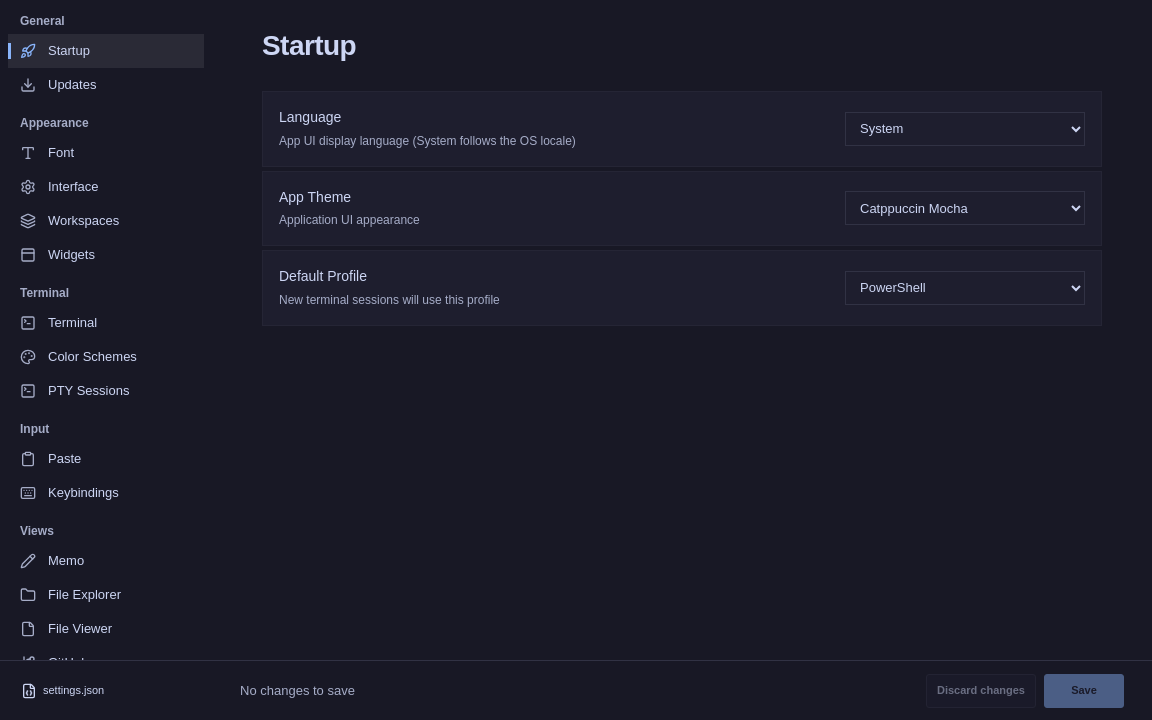
Scenario: SettingsView › requires an explicit terminal profile for each extension viewer
Click the button with test id "nav-fileExplorer": (106, 595) [8,578,204,612]
(page scrolled)
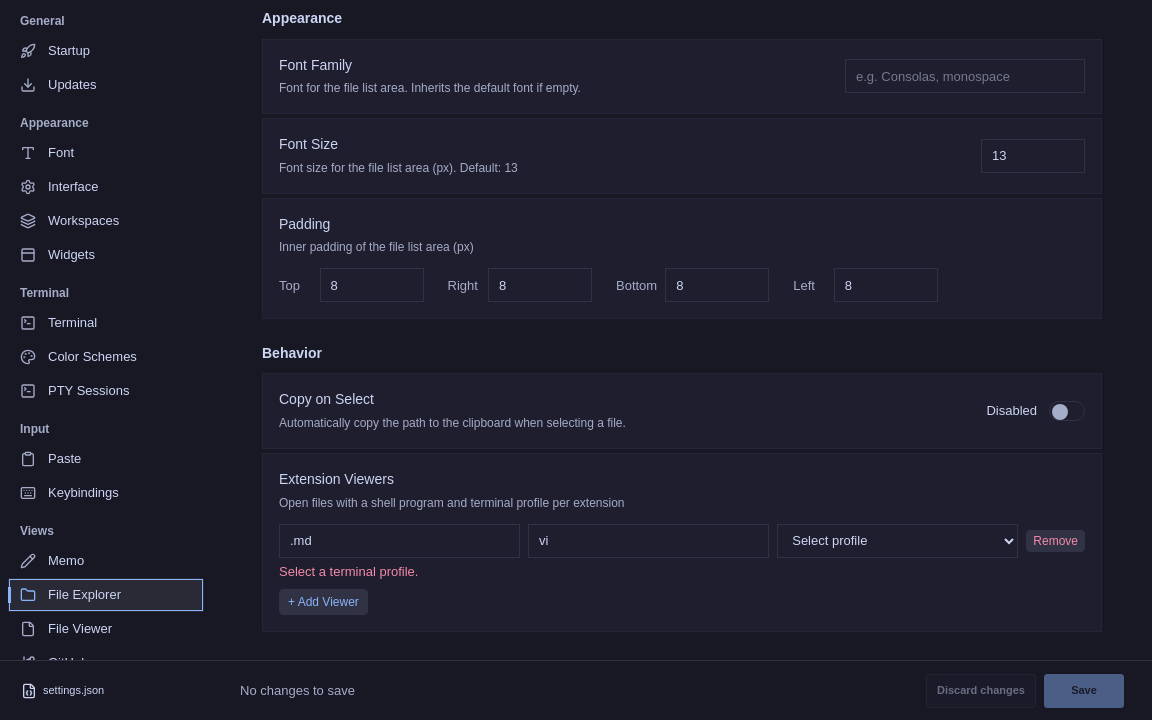
Expected: the dropdown with test id "fe-ext-viewer-profile-0" shows "Select profile"
Expected: the text with test id "fe-ext-viewer-profile-error-0" reads "Select a terminal profile.", [279,564,418,579]
Select "WSL" in the dropdown with test id "fe-ext-viewer-profile-0": (898, 541) [777,524,1018,558]
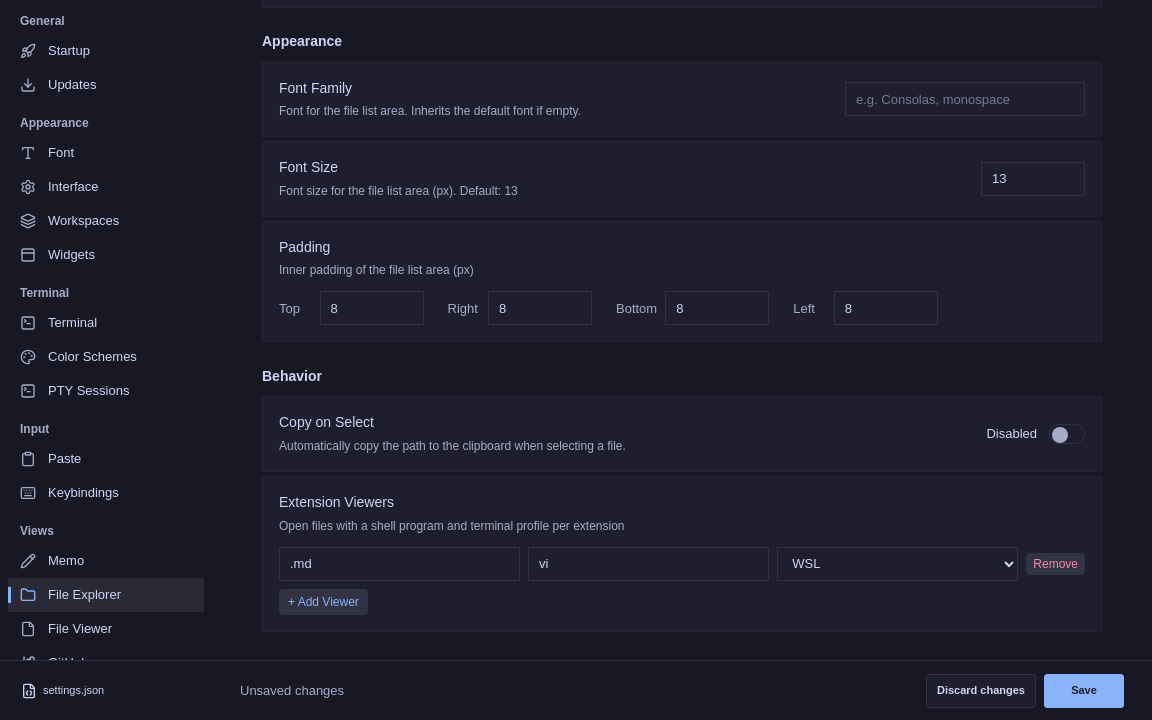
Click the button with test id "save-settings-btn": (1084, 690) [1044,674,1124,708]
(page scrolled)
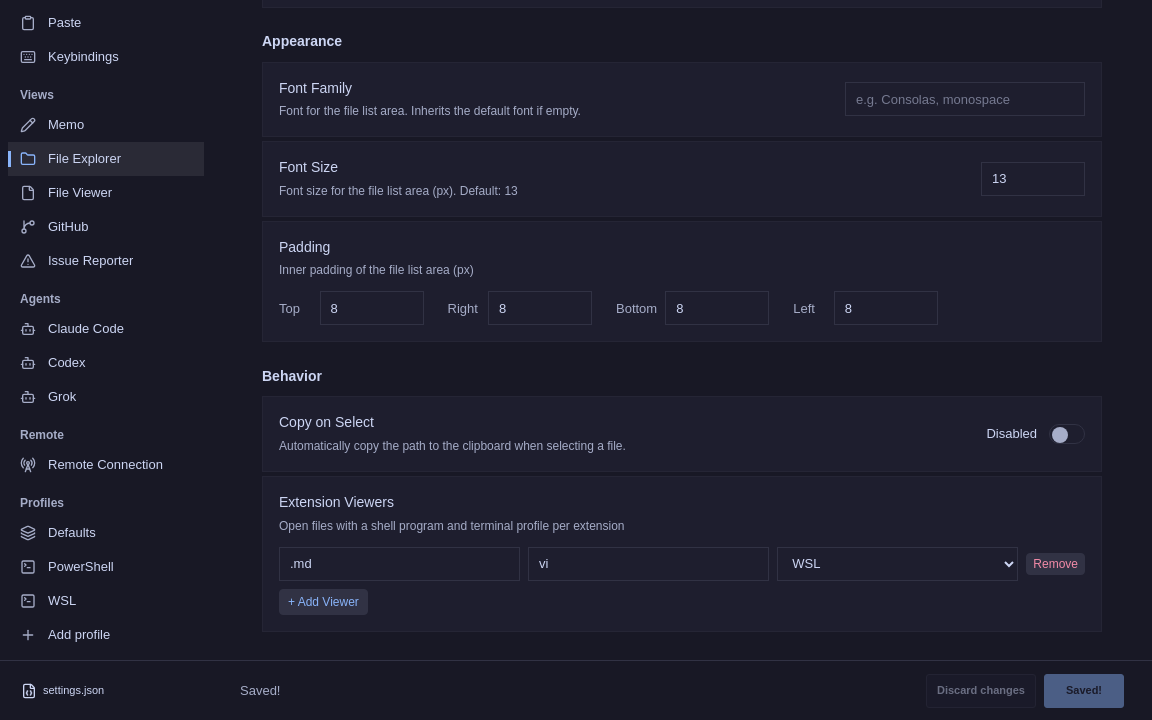
Expected: the text "WSL" is shown, [48,591,76,611]
